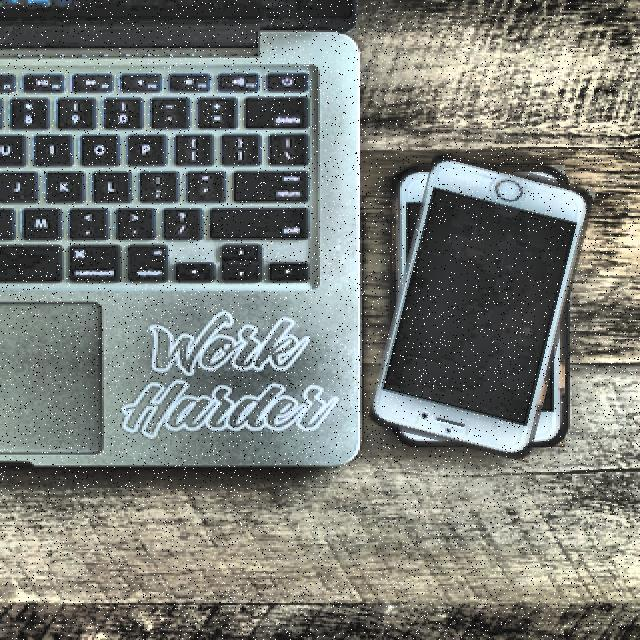Phone: (382, 157, 581, 455)
